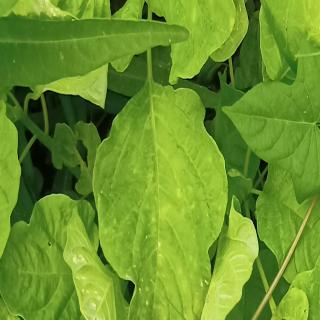karat_putih: (96, 102, 226, 320), (262, 284, 320, 320)
